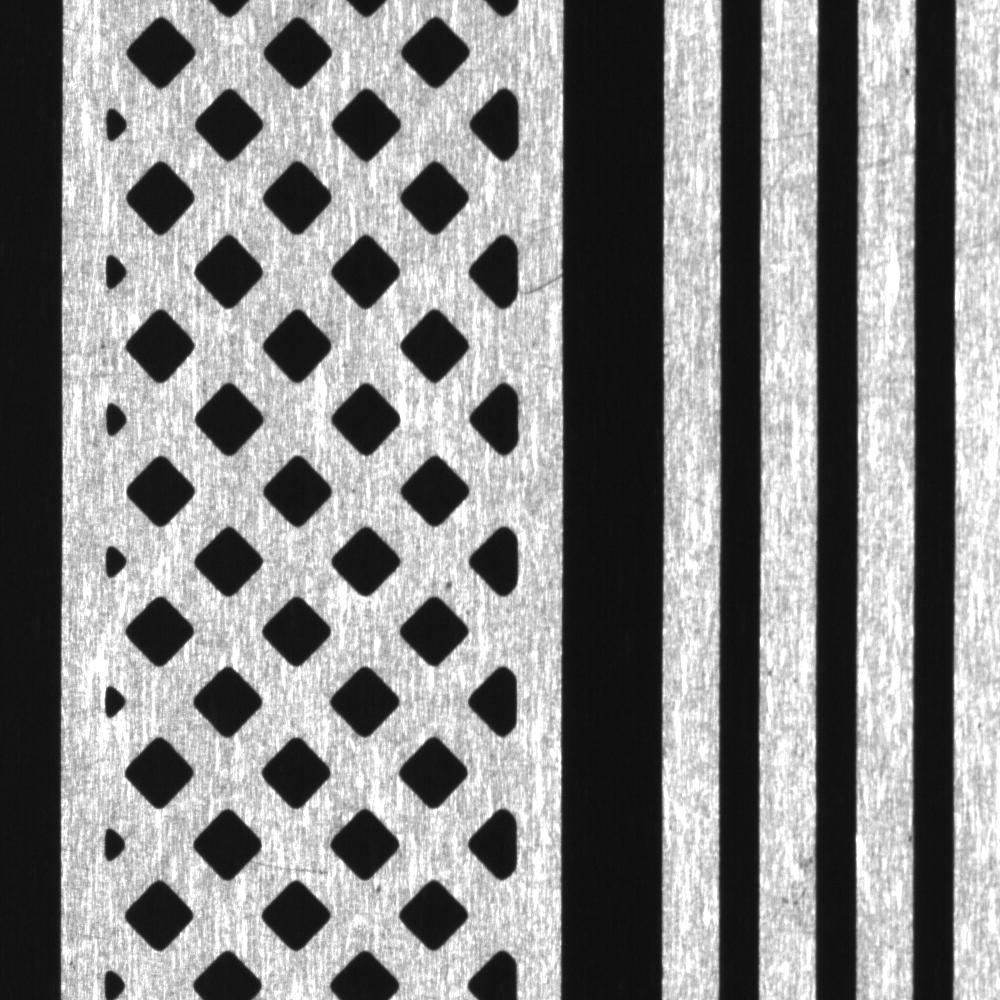Scar: (859, 103, 915, 199), (764, 107, 815, 194), (252, 850, 343, 893), (520, 263, 564, 318)
